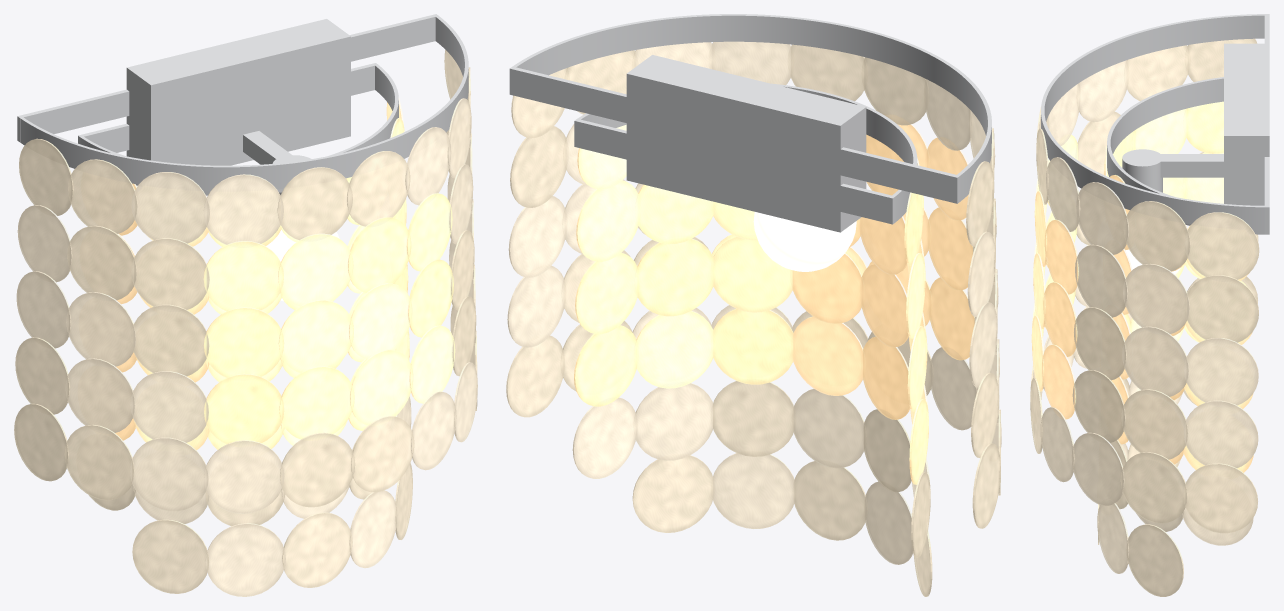
Rendered from gold-chrome-coastal-capiz-shell-wall-sconce-led-metallic-b.glb.
3 views of the same model, side by side, from view 1: azimuth 30°, elevation 25°; view 2: azimuth 150°, elevation 25°; view 3: azimuth 270°, elevation 25° (orthographic). The views are drawn at different scales.
Visible parts, largest first — view 1: Plate, OuterRail, OuterRailBack, Capiz_O6_4, Capiz_I4_5, Capiz_O6_2, Capiz_O6_3, Capiz_O7_4, Capiz_O6_1, Capiz_O7_0, Capiz_O7_2, Capiz_O6_0 (+43 smaller); view 2: Plate, OuterRail, OuterRailBack, InnerRailBack, Capiz_I2_5, Capiz_I2_4, Capiz_I2_3, Capiz_I1_5, Capiz_I1_4, Capiz_I1_2, Capiz_I1_3, Capiz_I3_5 (+49 smaller); view 3: OuterRail, Plate, Capiz_O0_4, Capiz_O0_0, Capiz_O0_2, Capiz_O0_3, Capiz_O0_1, Capiz_O1_4, Capiz_O1_0, Capiz_O1_3, InnerRail, Capiz_O1_1 (+32 smaller).
Part boxes in pixels (x1,y1,x2,y2): Plate: [126, 19, 350, 165]; OuterRail: [17, 14, 468, 191]; OuterRailBack: [17, 14, 437, 142]; Capiz_O6_4: [204, 440, 284, 513]; Capiz_I4_5: [205, 523, 285, 596]; Capiz_O6_2: [203, 307, 284, 380]; Capiz_O6_3: [204, 373, 284, 446]; Capiz_O7_4: [130, 437, 208, 511]; Capiz_O6_1: [203, 241, 283, 313]; Capiz_O7_0: [131, 172, 209, 244]; Capiz_O7_2: [130, 304, 209, 377]; Capiz_O6_0: [203, 174, 283, 244]; Plate: [626, 55, 866, 232]; OuterRail: [509, 14, 991, 203]; OuterRailBack: [509, 66, 960, 203]; InnerRailBack: [574, 118, 895, 224]; Capiz_I2_5: [711, 453, 795, 528]; Capiz_I2_4: [711, 381, 795, 456]; Capiz_I2_3: [711, 309, 795, 384]; Capiz_I1_5: [632, 455, 714, 532]; Capiz_I1_4: [634, 383, 714, 460]; Capiz_I1_2: [635, 238, 715, 316]; Capiz_I1_3: [634, 311, 715, 388]; Capiz_I3_5: [793, 461, 866, 540]; OuterRail: [1041, 14, 1269, 230]; Plate: [1224, 43, 1269, 205]; Capiz_O0_4: [1183, 463, 1257, 533]; Capiz_O0_0: [1184, 212, 1259, 281]; Capiz_O0_2: [1184, 338, 1258, 406]; Capiz_O0_3: [1183, 400, 1258, 469]; Capiz_O0_1: [1184, 275, 1258, 343]; Capiz_O1_4: [1120, 452, 1187, 523]; Capiz_O1_0: [1123, 201, 1190, 271]; Capiz_O1_3: [1121, 389, 1188, 459]; InnerRail: [1107, 77, 1264, 234]; Capiz_O1_1: [1123, 263, 1189, 334].
Bounding box in the file's own units: 0.239 × 0.2489 × 0.1196.
Materials: 5 (2 with a texture image).
